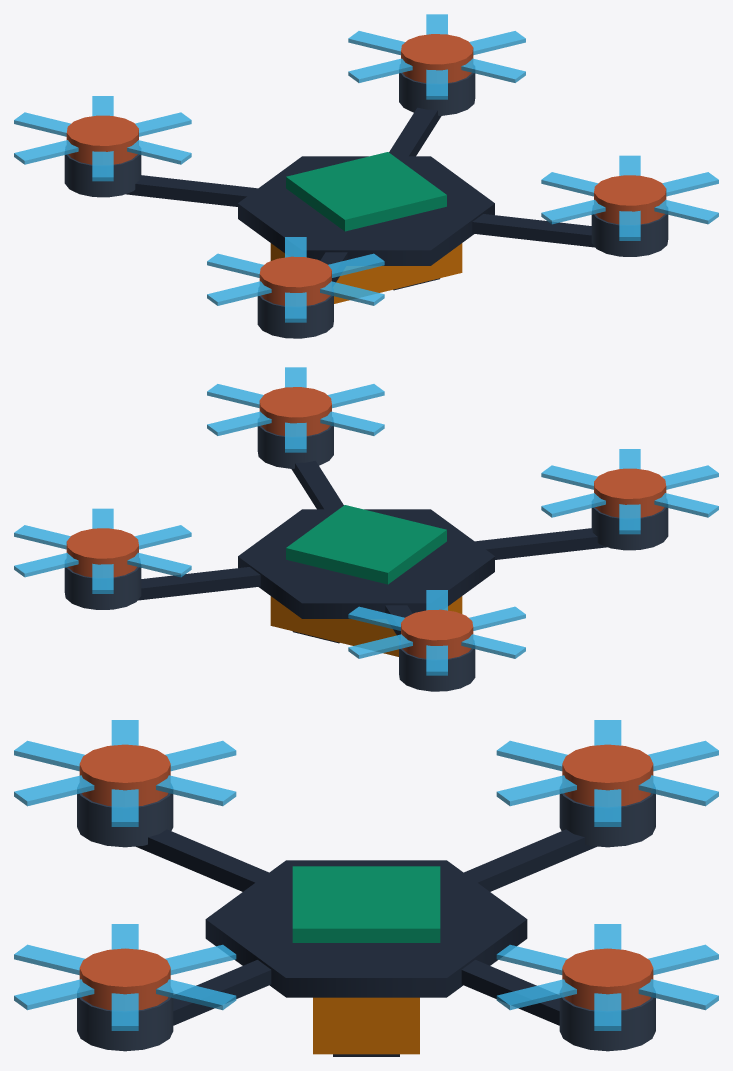
3 renders of one model, top to bottom at view 1: azimuth 30°, elevation 25°; view 2: azimuth 150°, elevation 25°; view 3: azimuth 270°, elevation 25°, orthographic. The views are drawn at different scales.
Visible parts, largest first — view 1: DroneFrame, FlightController, Motor_RL, Motor_FL, Motor_FR, DroneExplorerQuad, Motor_RR, Propeller_FR, Propeller_RR, Propeller_RL, Propeller_FL, LiPoBattery (+1 smaller); view 2: DroneFrame, FlightController, FrameArms, Motor_RR, Motor_RL, Motor_FL, Motor_FR, Propeller_RR, Propeller_FR, Propeller_FL, Propeller_RL, LiPoBattery (+1 smaller); view 3: DroneFrame, FlightController, Motor_FR, Motor_RR, Motor_FL, Motor_RL, Propeller_FR, Propeller_RR, Propeller_RL, Propeller_FL, LiPoBattery, FrameArms (+1 smaller).
Boxes of the visible parts, left/top/right/bottom form: DroneFrame: left=238, top=156, right=494, bottom=265; FlightController: left=286, top=152, right=446, bottom=231; Motor_RL: left=64, top=115, right=141, bottom=197; Motor_FL: left=257, top=256, right=333, bottom=338; Motor_FR: left=591, top=175, right=668, bottom=256; DroneExplorerQuad: left=126, top=175, right=594, bottom=247; Motor_RR: left=399, top=34, right=475, bottom=115; Propeller_FR: left=541, top=155, right=718, bottom=240; Propeller_RR: left=348, top=14, right=525, bottom=99; Propeller_RL: left=14, top=96, right=191, bottom=181; Propeller_FL: left=207, top=237, right=384, bottom=322; LiPoBattery: left=270, top=243, right=462, bottom=303; DroneFrame: left=238, top=509, right=494, bottom=618; FlightController: left=286, top=505, right=446, bottom=584; FrameArms: left=138, top=528, right=606, bottom=600; Motor_RR: left=64, top=528, right=141, bottom=609; Motor_RL: left=399, top=609, right=475, bottom=691; Motor_FL: left=591, top=468, right=668, bottom=550; Motor_FR: left=257, top=387, right=333, bottom=468; Propeller_RR: left=14, top=508, right=191, bottom=593; Propeller_FR: left=207, top=367, right=384, bottom=452; Propeller_FL: left=541, top=449, right=718, bottom=534; Propeller_RL: left=348, top=590, right=525, bottom=675; LiPoBattery: left=270, top=596, right=462, bottom=656; DroneFrame: left=205, top=860, right=527, bottom=997; FlightController: left=292, top=866, right=440, bottom=942; Motor_FR: left=77, top=948, right=173, bottom=1051; Motor_RR: left=559, top=948, right=655, bottom=1051; Motor_FL: left=77, top=744, right=173, bottom=847; Motor_RL: left=559, top=744, right=655, bottom=847; Propeller_FR: left=14, top=924, right=236, bottom=1030; Propeller_RR: left=496, top=924, right=718, bottom=1030; Propeller_RL: left=496, top=720, right=718, bottom=826; Propeller_FL: left=14, top=720, right=236, bottom=826; LiPoBattery: left=313, top=997, right=419, bottom=1054; FrameArms: left=136, top=829, right=559, bottom=1025.
Bounding box in the file's own units: 2.7 × 0.635 × 2.63.
